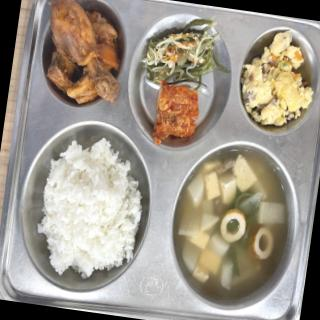Nasi: (20, 130, 148, 284)
